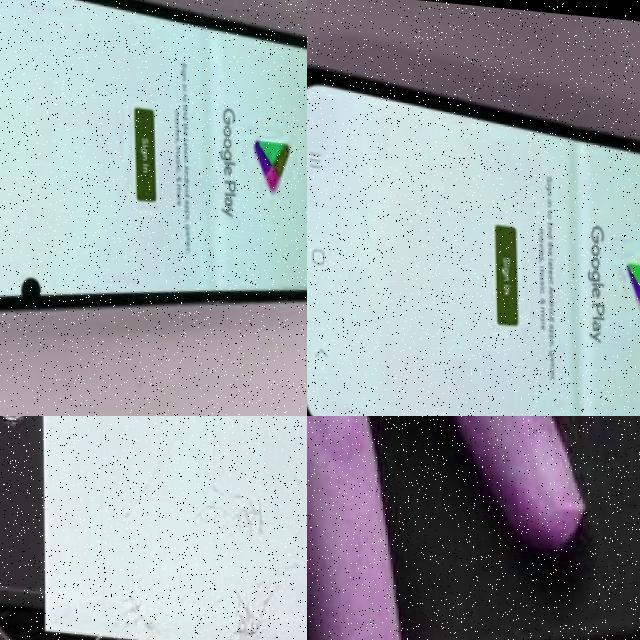dead pixel: (12, 250, 48, 321)
screen crack: (91, 460, 286, 640)
